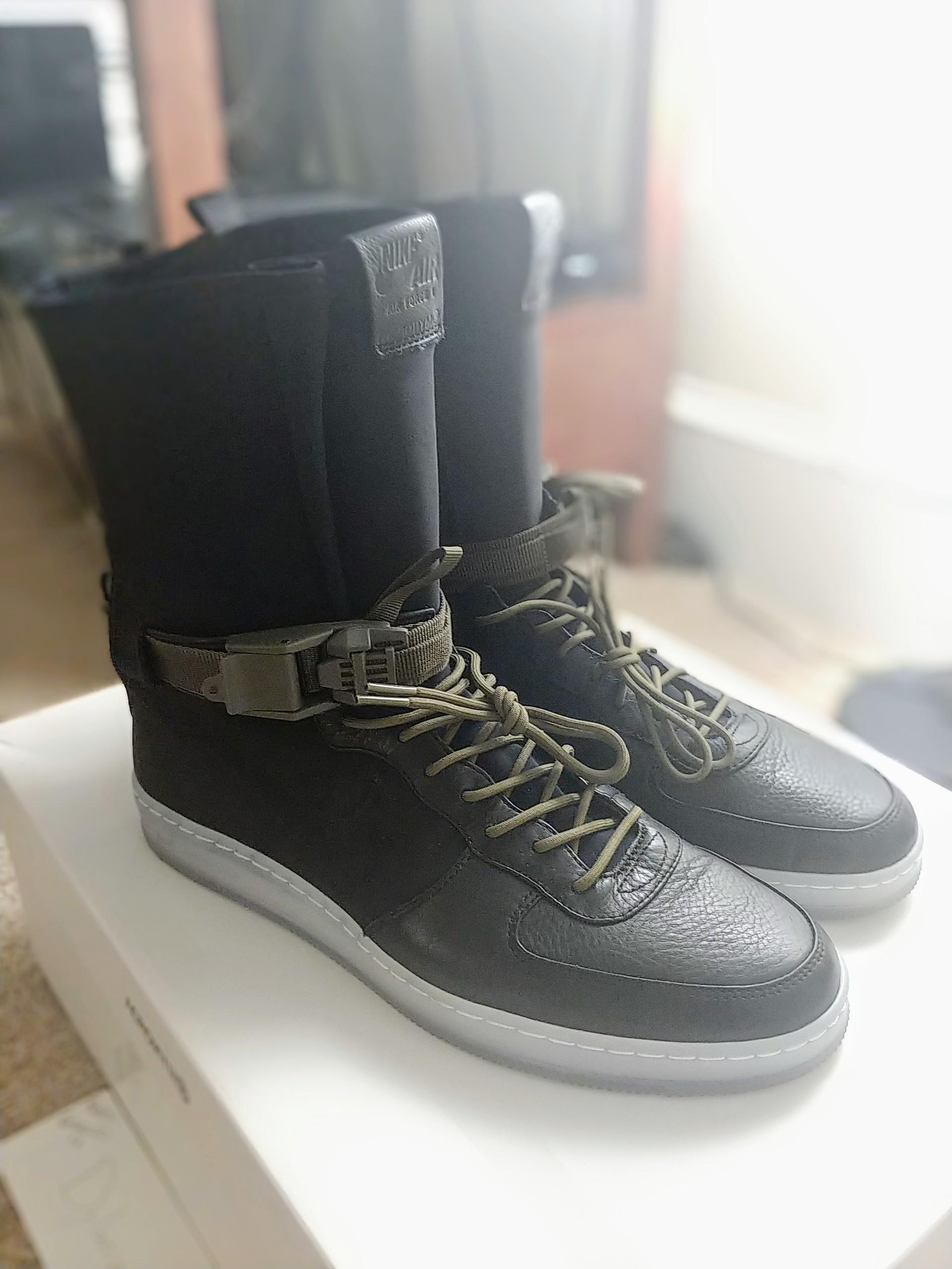sneaker: (71, 213, 804, 1219), (298, 198, 952, 922)
